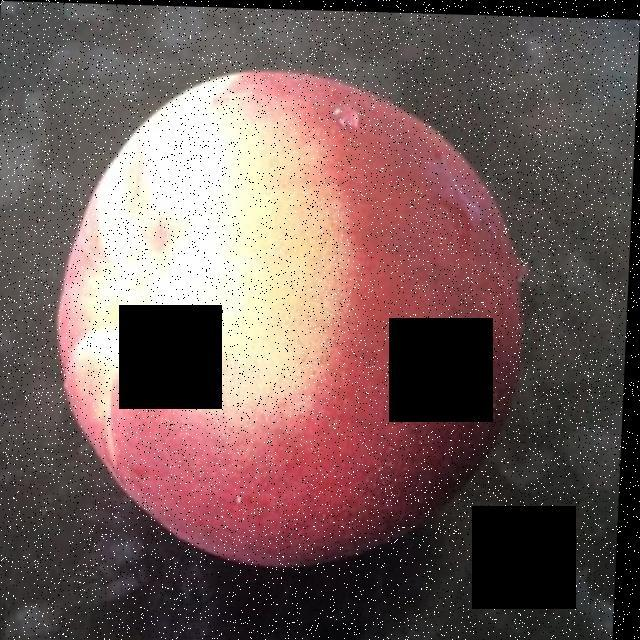nectarine: (49, 65, 509, 547)
